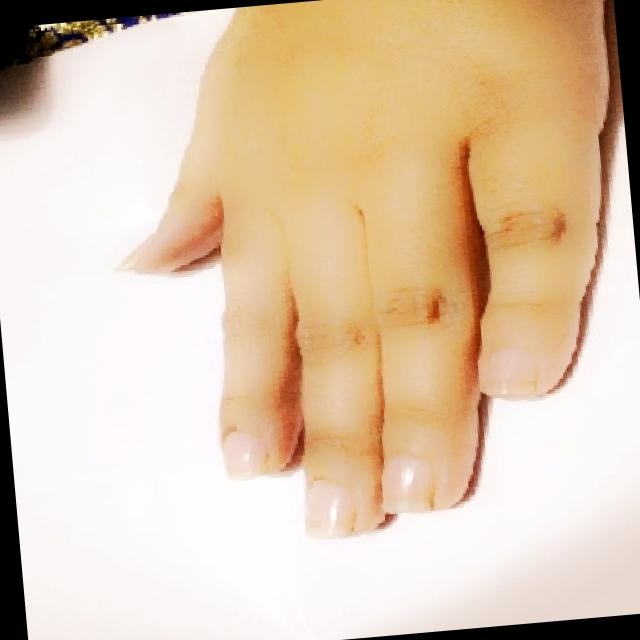Nail: (380, 453, 432, 511), (305, 477, 355, 537), (482, 346, 536, 396), (221, 430, 265, 478), (112, 228, 159, 269)
